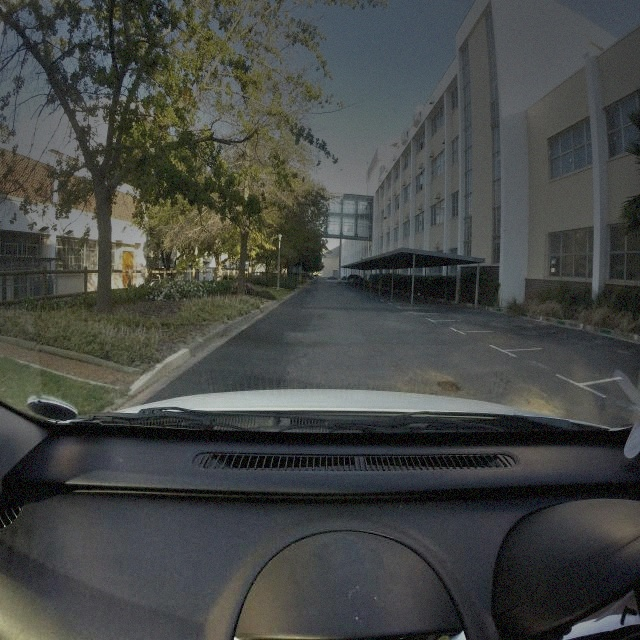pothole: (437, 378, 461, 394)
